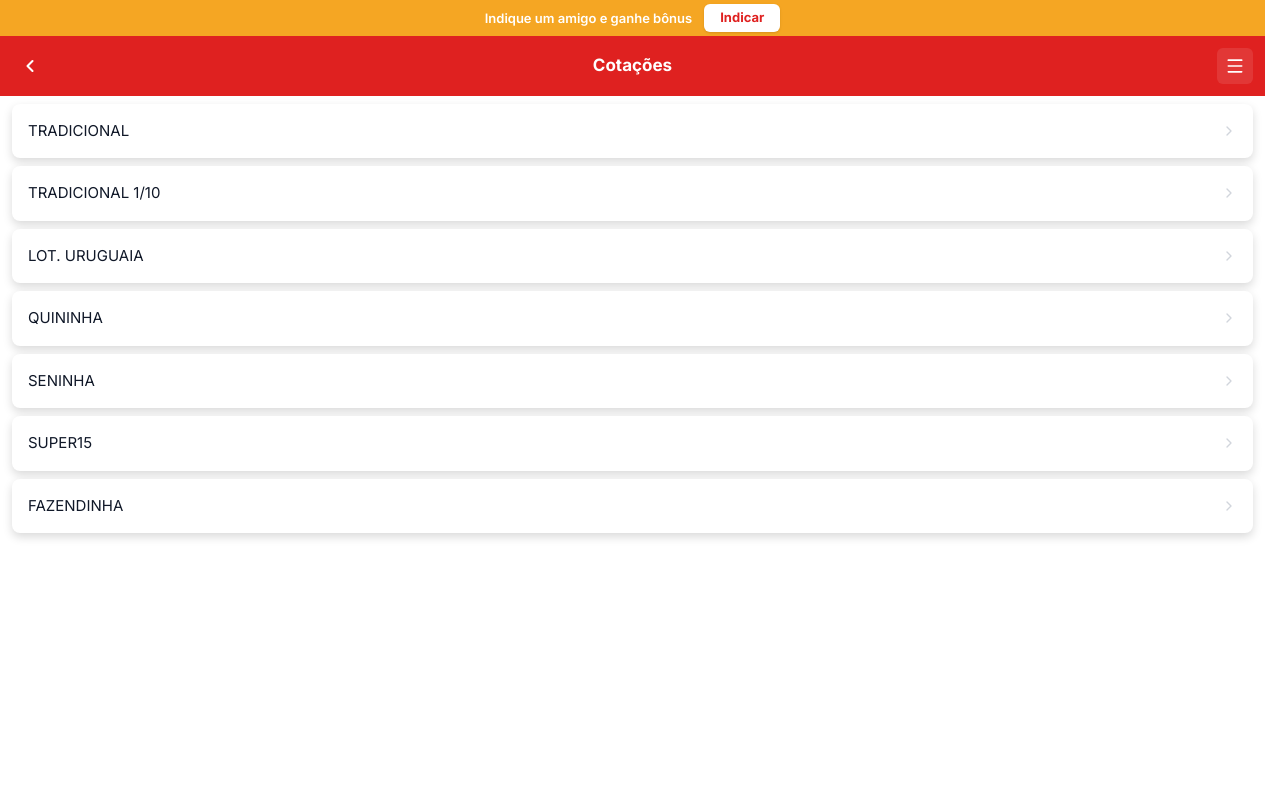
Test: Relatórios > Cotações › Tradicional: cabeçalho do vendedor, tabela 800/1/8000, aviso do Duque/Terno e os prêmios
This screenshot has width=1280, height=800.
Step 1. Click the button "TRADICIONAL" → (79, 130), box top-left (12, 104), bottom-right (1253, 158)
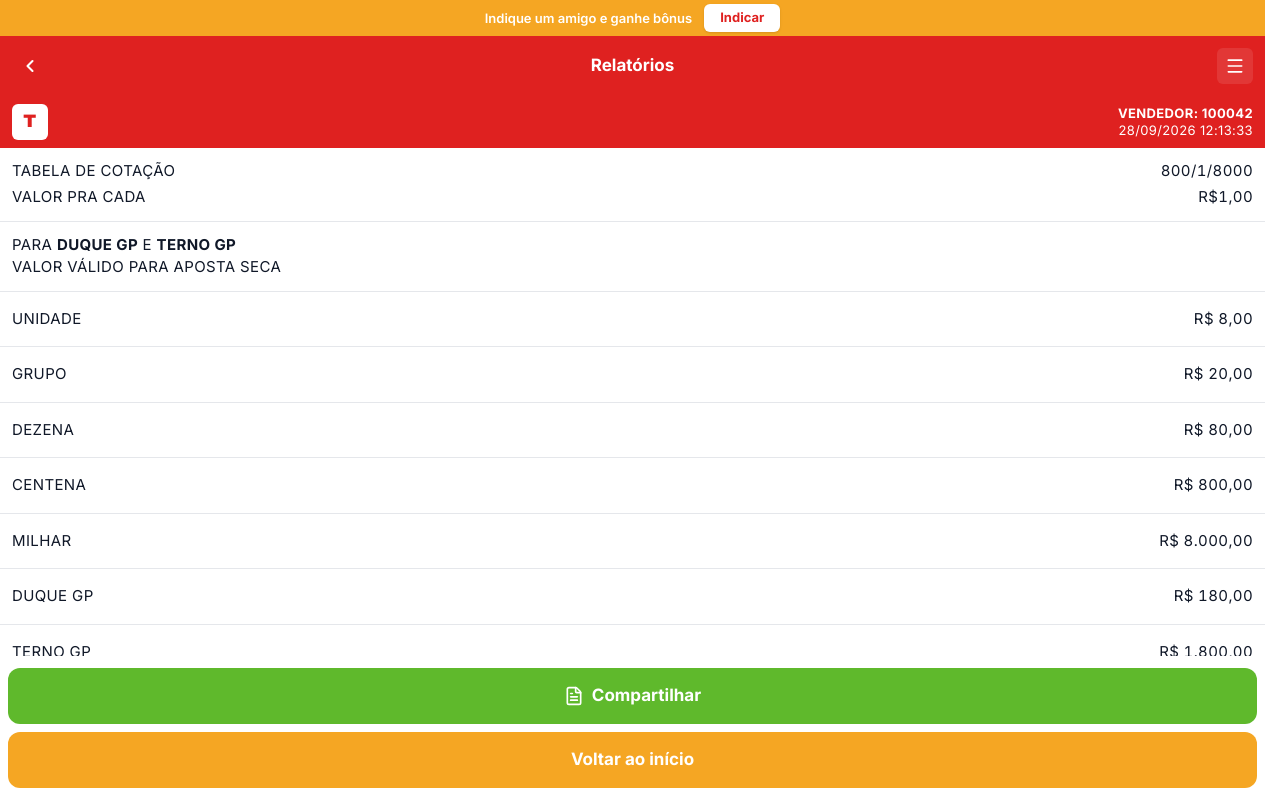
Expected: the heading "Relatórios" is shown, top-left (591, 55), bottom-right (674, 75)
Expected: the element that starts with "VENDEDOR:" shows "28/09/2026 12:13:33", top-left (1118, 122), bottom-right (1253, 138)
Expected: the row "GRUPO" shows "R$ 20,00", top-left (1184, 364), bottom-right (1253, 383)
Step 2. Click the button named "Voltar para cotações" → (30, 66), box top-left (12, 48), bottom-right (48, 84)
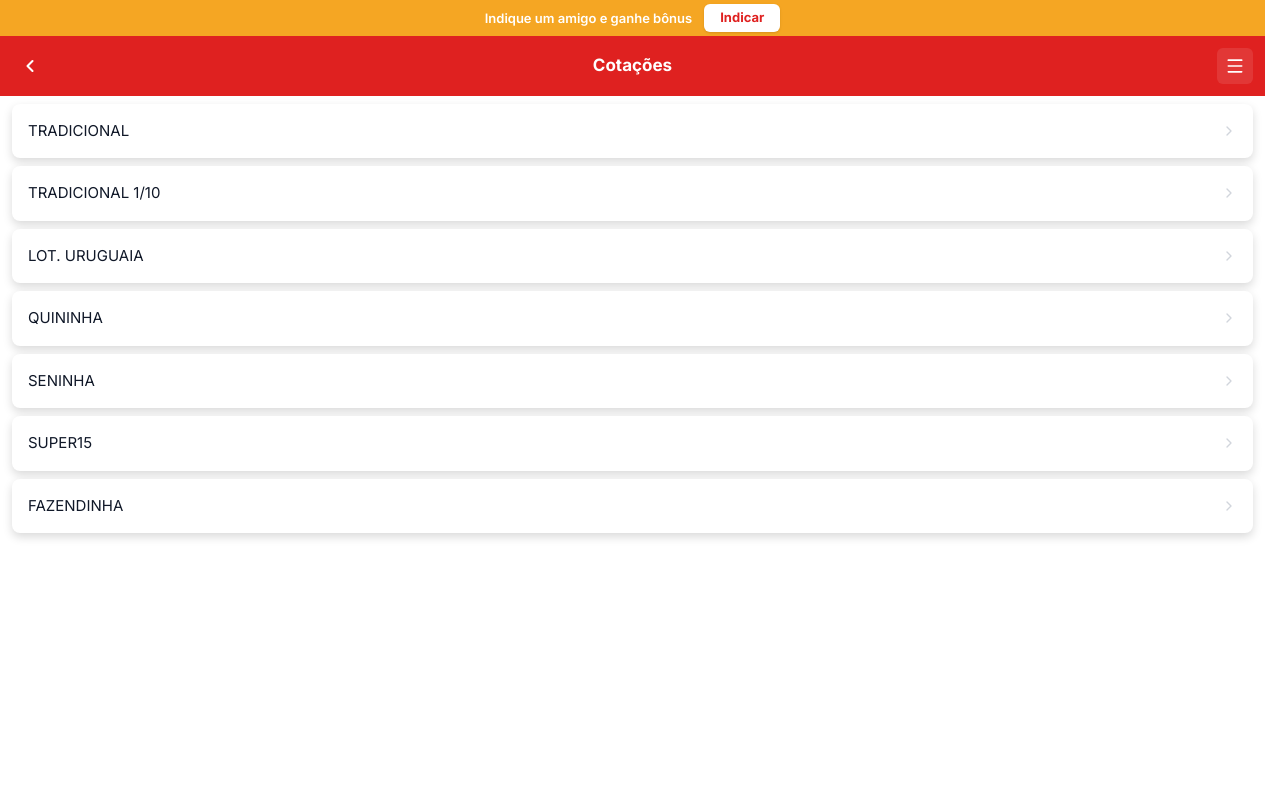
Expected: the heading "Cotações" is shown, top-left (593, 55), bottom-right (672, 75)
